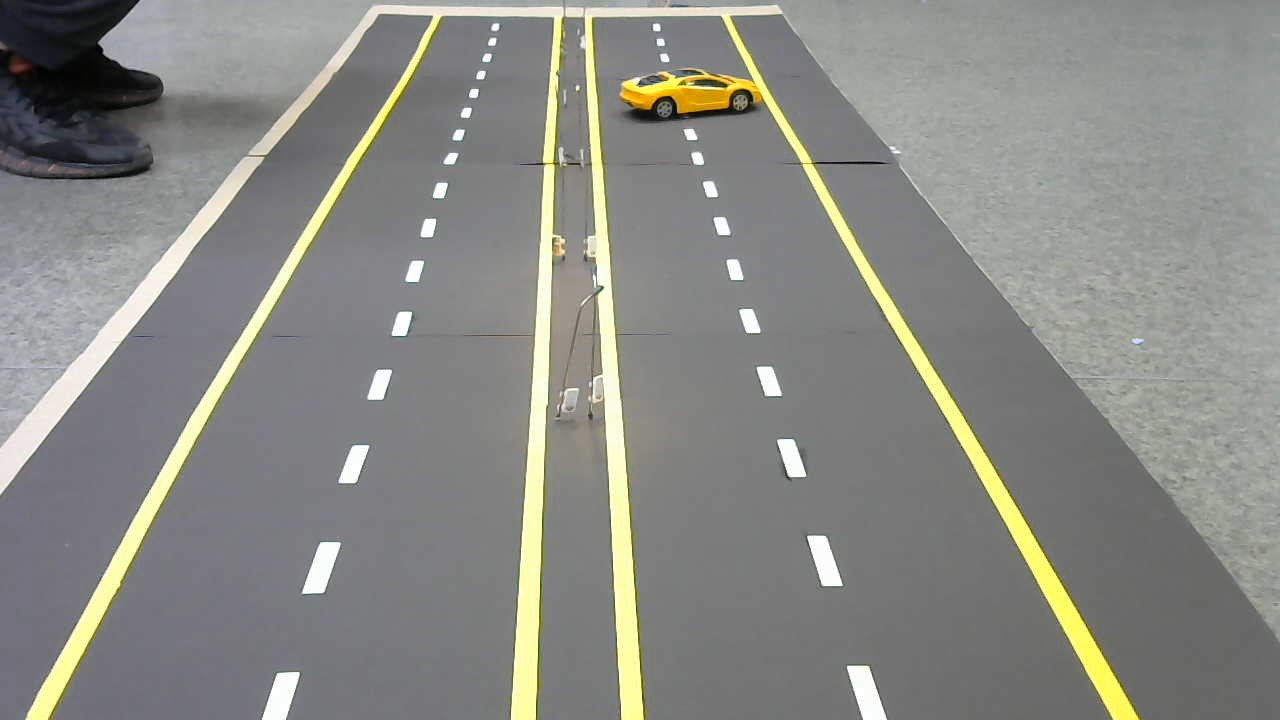overturn_car: (615, 64, 765, 121)
